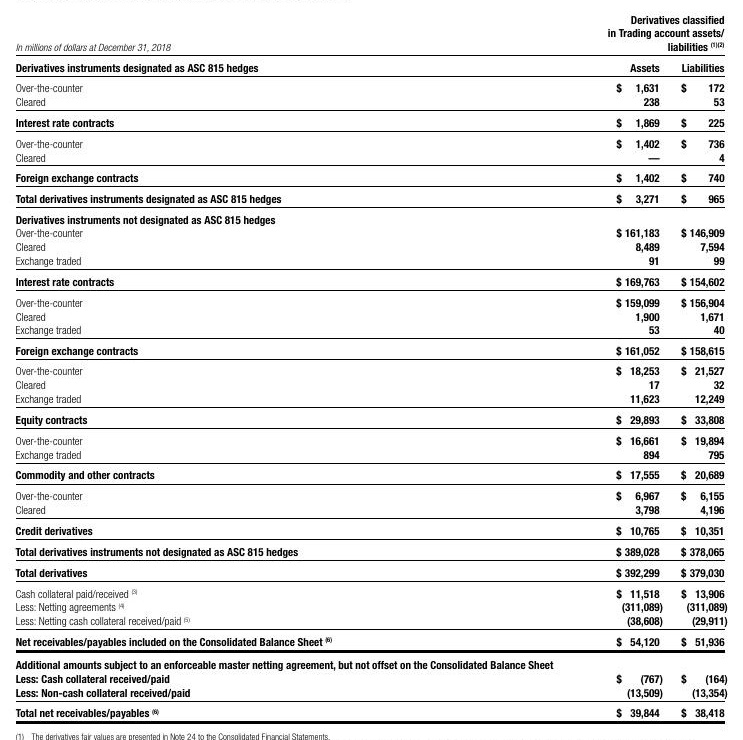table: (0, 0, 743, 740)
